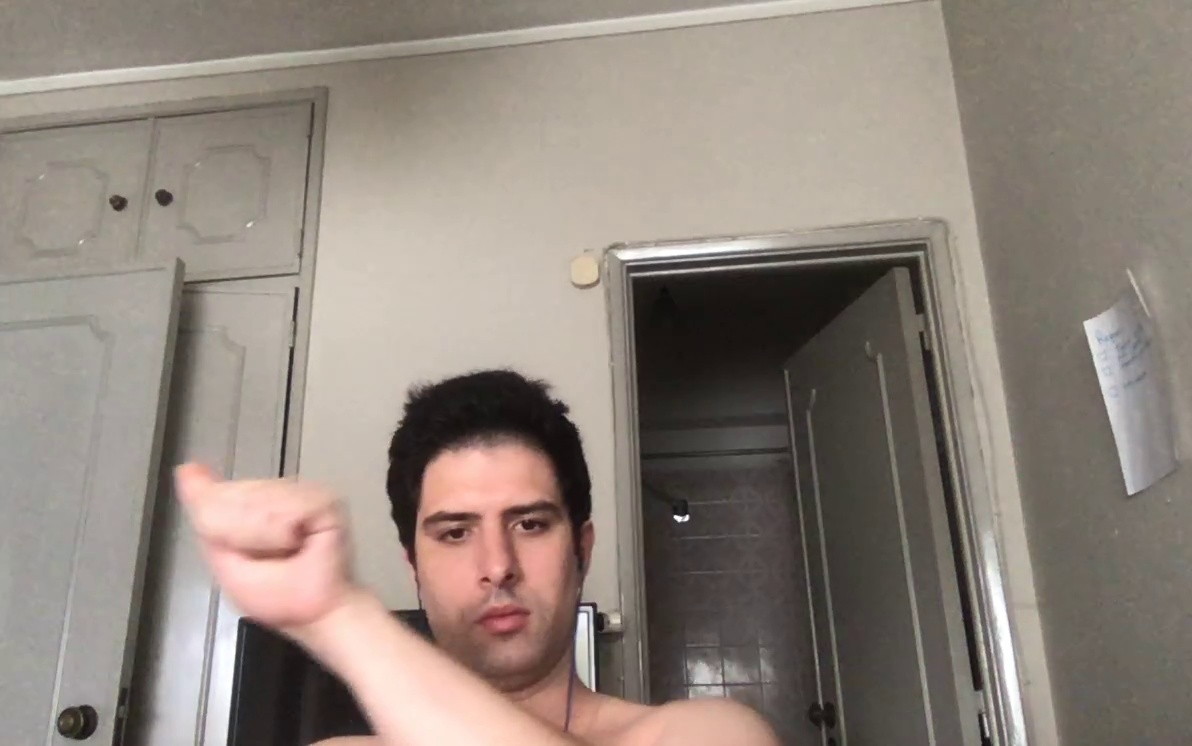a: (159, 451, 373, 649)
